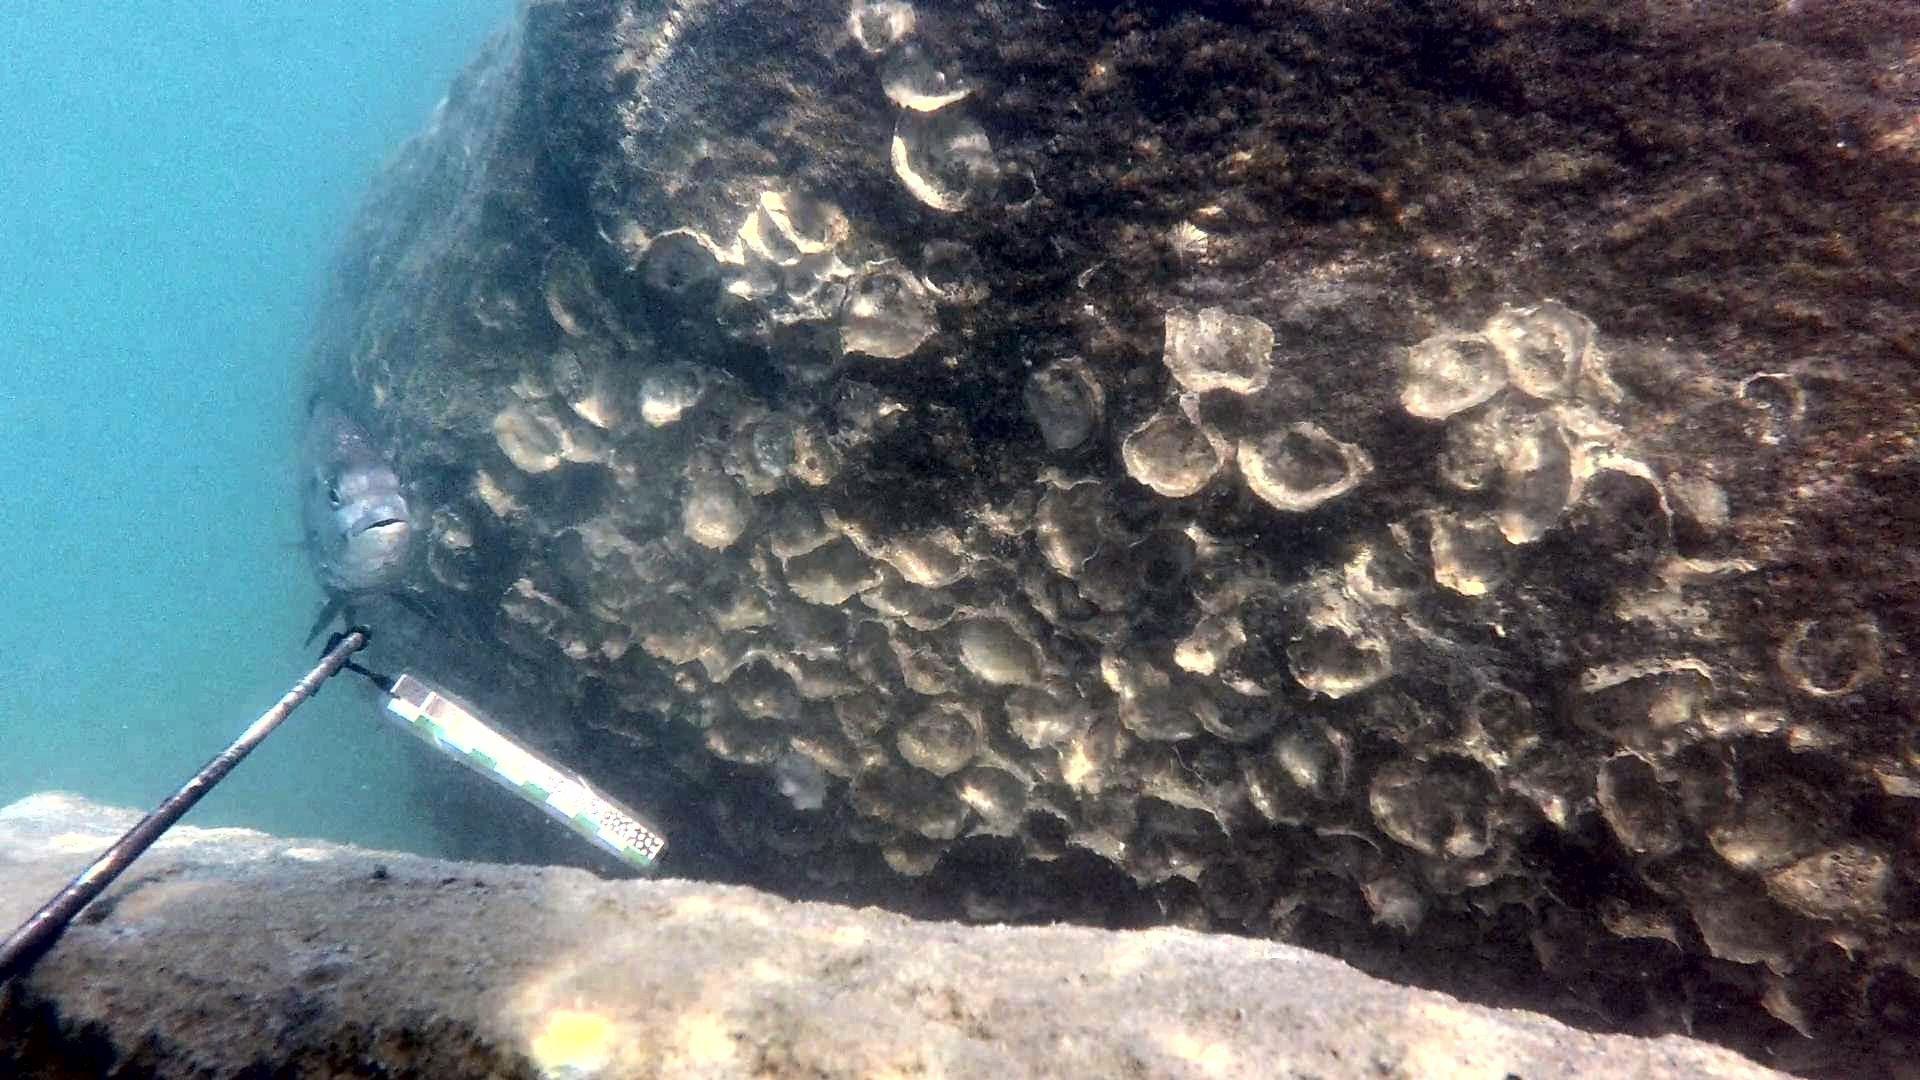acanthopagrus palmaris: (281, 378, 465, 650)
